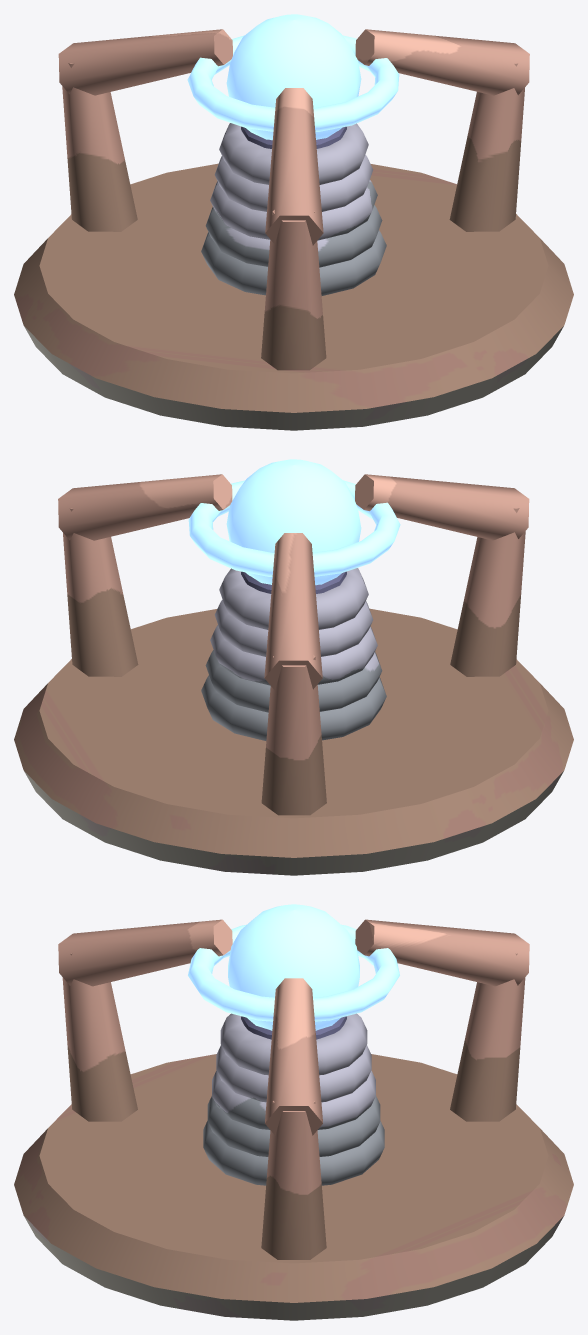
The model's file is R4D_EMPTrap.glb.
3 renders of one model, top to bottom at view 1: azimuth 30°, elevation 25°; view 2: azimuth 150°, elevation 25°; view 3: azimuth 270°, elevation 25°, orthographic.
Parts seen in each view (by area): view 1: R4D_EMPTrap_Body, R4D_EMPTrap_Core; view 2: R4D_EMPTrap_Body, R4D_EMPTrap_Core; view 3: R4D_EMPTrap_Body, R4D_EMPTrap_Core.
Boxes of the visible parts, bbox=[...] form: R4D_EMPTrap_Body: bbox=[14, 29, 573, 430]; R4D_EMPTrap_Core: bbox=[187, 14, 399, 140]; R4D_EMPTrap_Body: bbox=[14, 474, 573, 875]; R4D_EMPTrap_Core: bbox=[188, 459, 400, 585]; R4D_EMPTrap_Body: bbox=[14, 919, 573, 1320]; R4D_EMPTrap_Core: bbox=[188, 904, 399, 1030].
Bounding box in the file's own units: 0.44 × 0.2581 × 0.44.
Materials: 5 (4 with a texture image).
